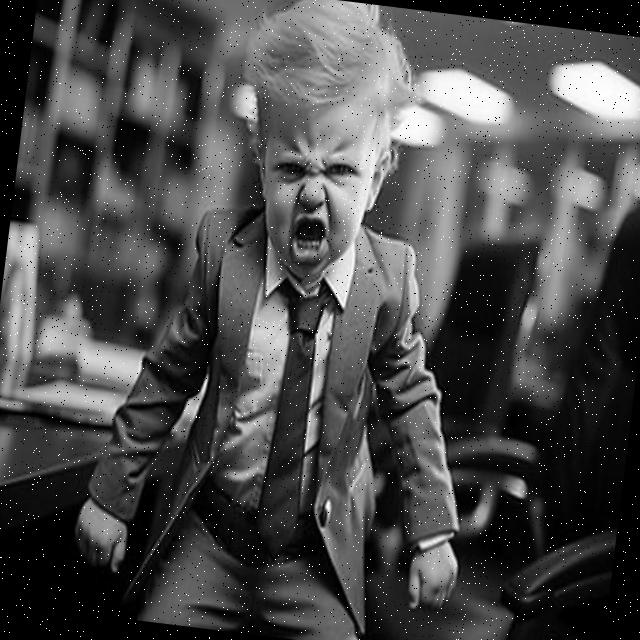Angry: (249, 80, 382, 284)
